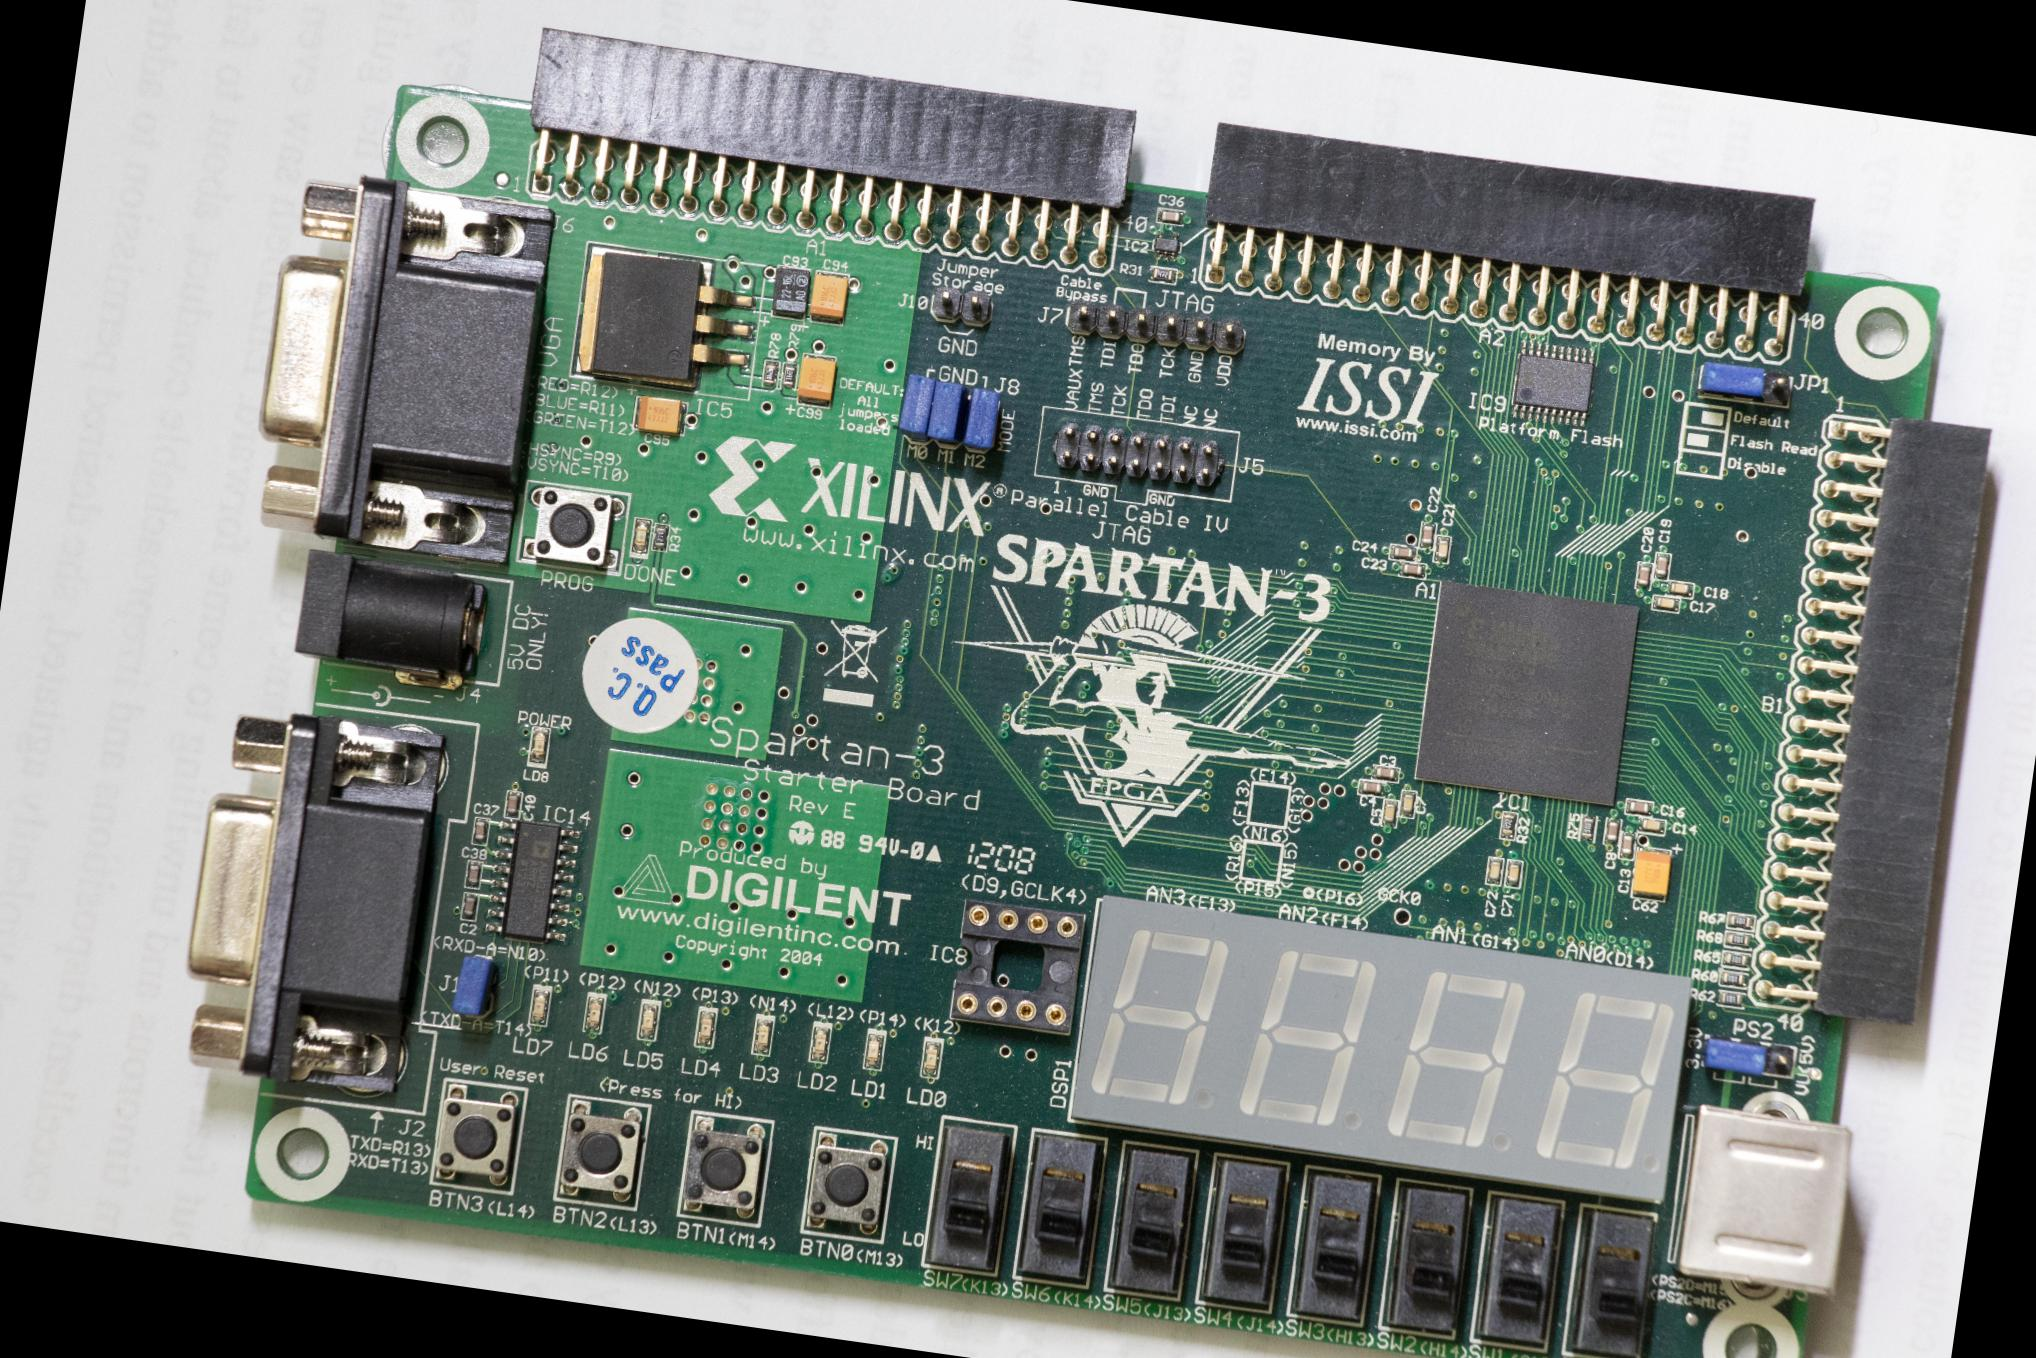Button: (432, 1078, 527, 1196), (553, 1094, 648, 1211), (800, 1128, 895, 1243), (515, 480, 629, 576), (679, 1111, 773, 1225)
Capacitor: (1663, 579, 1695, 599), (1432, 533, 1451, 564), (1388, 543, 1418, 562), (1651, 594, 1682, 614), (1503, 858, 1522, 888), (470, 815, 489, 846), (462, 859, 482, 890), (1153, 205, 1183, 224), (1633, 561, 1653, 590), (1356, 778, 1385, 797), (1616, 831, 1636, 859), (1380, 799, 1400, 828), (503, 790, 523, 818), (459, 893, 479, 921), (1485, 856, 1503, 887), (1418, 521, 1436, 550), (1624, 799, 1653, 817), (1603, 817, 1621, 846), (1398, 561, 1426, 579), (1371, 765, 1398, 784), (1639, 818, 1666, 837), (1400, 787, 1416, 815), (1653, 552, 1669, 579)
Connector: (517, 24, 1136, 280), (1194, 115, 1813, 368), (1747, 405, 1995, 1029), (162, 693, 479, 1115), (242, 167, 551, 565), (1668, 1087, 1860, 1309), (292, 549, 512, 685), (1035, 406, 1239, 503), (947, 897, 1086, 1035), (1062, 296, 1247, 356), (926, 286, 994, 329), (1759, 368, 1795, 411), (1763, 1041, 1797, 1079)
Display: (1063, 893, 1694, 1208)
Electrolytic Capacitor: (1628, 846, 1671, 902), (768, 264, 810, 320), (795, 352, 836, 409), (807, 270, 850, 324), (632, 394, 688, 435)
IC: (1412, 579, 1641, 805), (570, 242, 768, 402), (483, 817, 582, 946), (1507, 339, 1598, 427), (1151, 232, 1183, 259)
Jumper: (448, 953, 498, 1018), (1694, 359, 1765, 405), (926, 379, 970, 449), (897, 373, 936, 447), (1703, 1035, 1766, 1078), (963, 385, 1001, 453)
Led: (523, 723, 553, 770), (524, 984, 556, 1028), (806, 1022, 833, 1067), (691, 1005, 718, 1050), (860, 1028, 888, 1072), (635, 996, 660, 1041), (582, 993, 607, 1035), (920, 1035, 944, 1079), (750, 1014, 774, 1056), (629, 515, 651, 558)
Resistor Network: (1715, 970, 1748, 990), (1719, 949, 1750, 970), (1713, 990, 1744, 1011), (1721, 931, 1753, 950), (1725, 911, 1754, 932), (650, 521, 670, 552), (1577, 812, 1597, 843), (759, 359, 779, 388), (1498, 809, 1516, 840), (1148, 265, 1177, 283), (782, 362, 798, 390)
Switch: (1009, 1129, 1109, 1287), (1469, 1193, 1566, 1353), (1377, 1179, 1474, 1338), (1559, 1200, 1657, 1356), (921, 1117, 1016, 1278), (1195, 1153, 1291, 1313), (1103, 1143, 1197, 1302), (1286, 1167, 1380, 1325)
